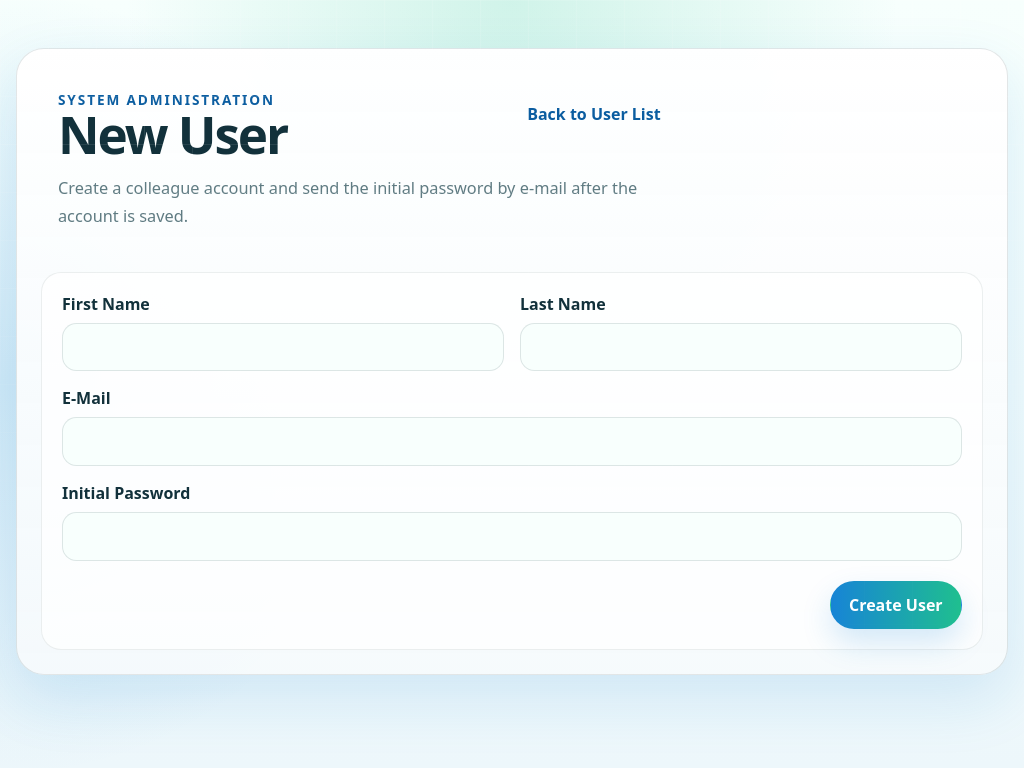
NewUserPage › shows inline field errors for backend validation failures
expect the button "Create User" is shown: met, box left=830, top=581, right=962, bottom=629
Type "Cora" into the field labelled "First Name" at [283, 347], box left=62, top=322, right=504, bottom=371
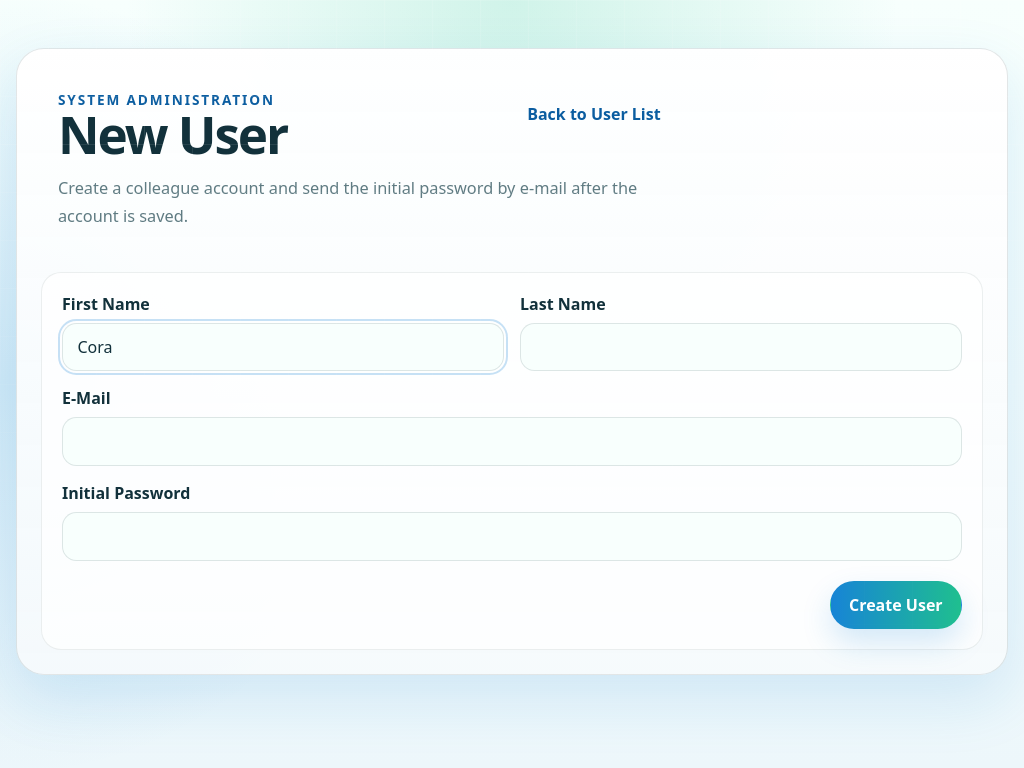
Type "existing@example.com" into the field labelled "E-Mail" at [512, 442], box left=62, top=418, right=962, bottom=466
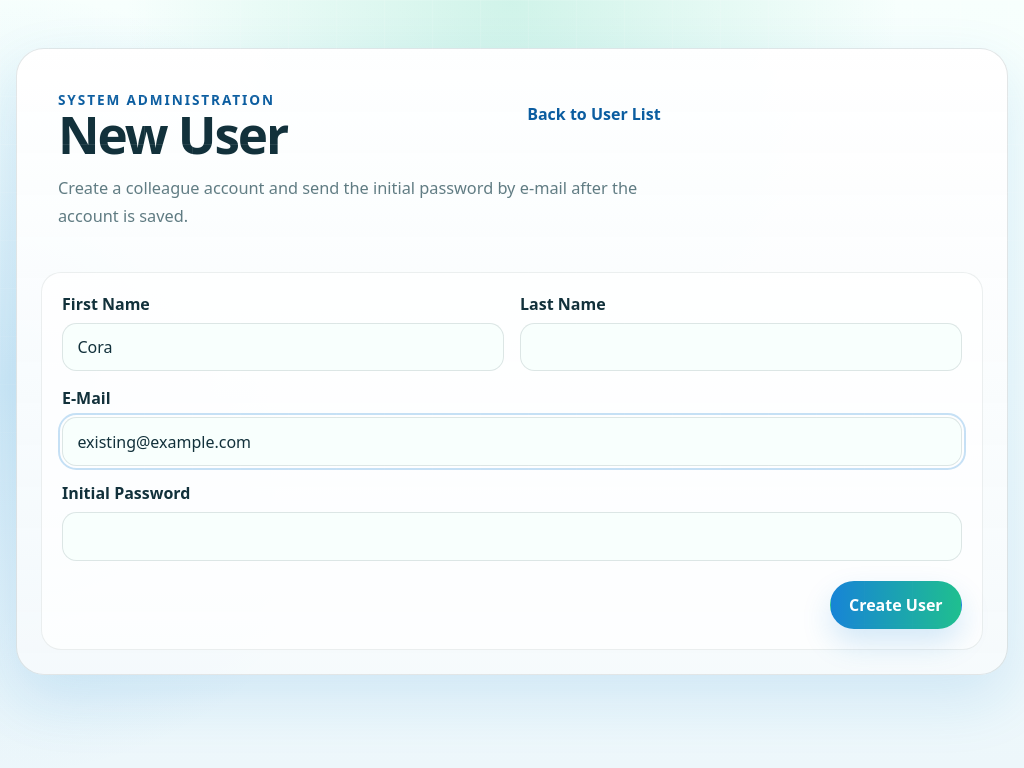
Click the button "Create User" at [896, 605], box left=830, top=581, right=962, bottom=629
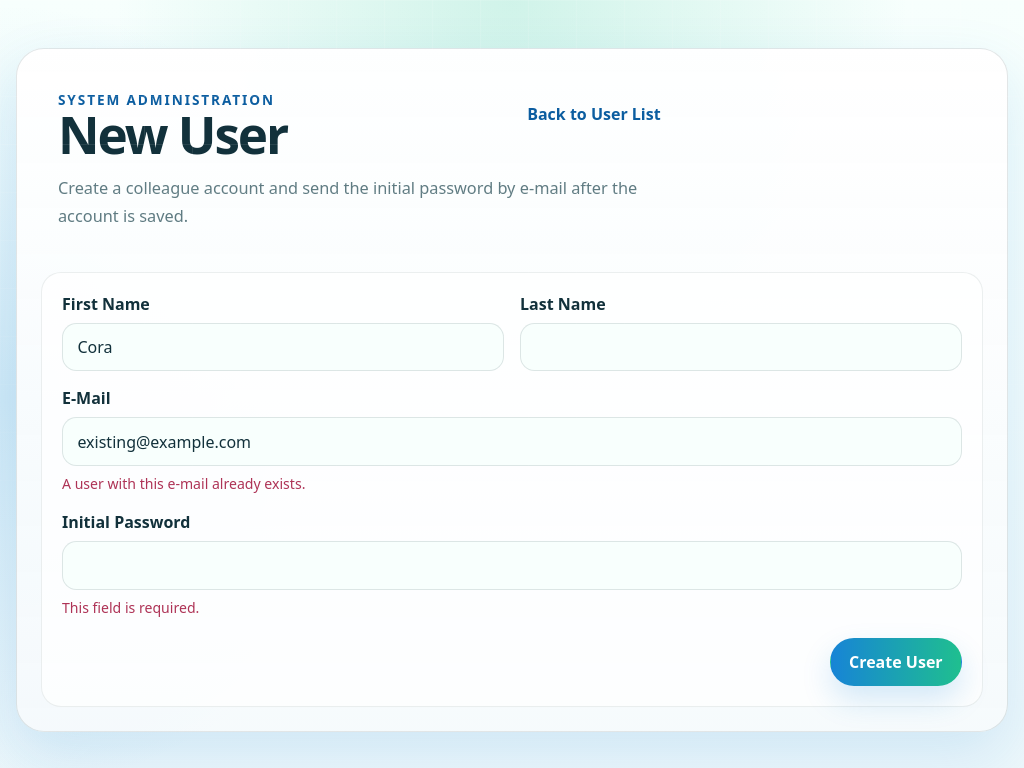
expect the text "A user with this e-mail already exists." is shown: met, box left=62, top=474, right=305, bottom=493
expect the text "This field is required." is shown: met, box left=62, top=598, right=199, bottom=617
